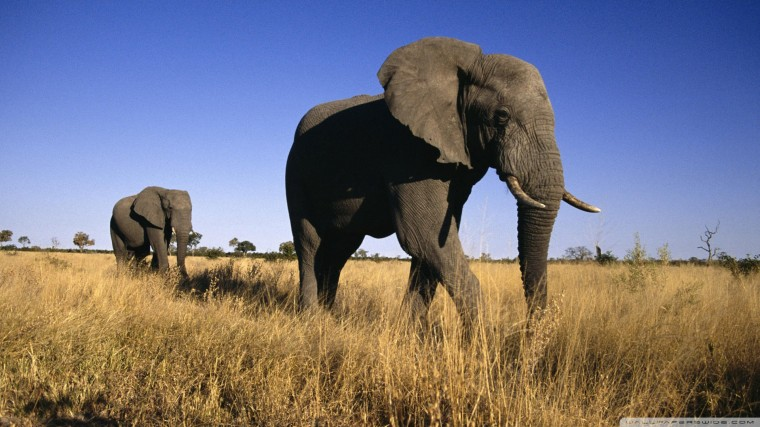africanelephant: (409, 60, 612, 265)
